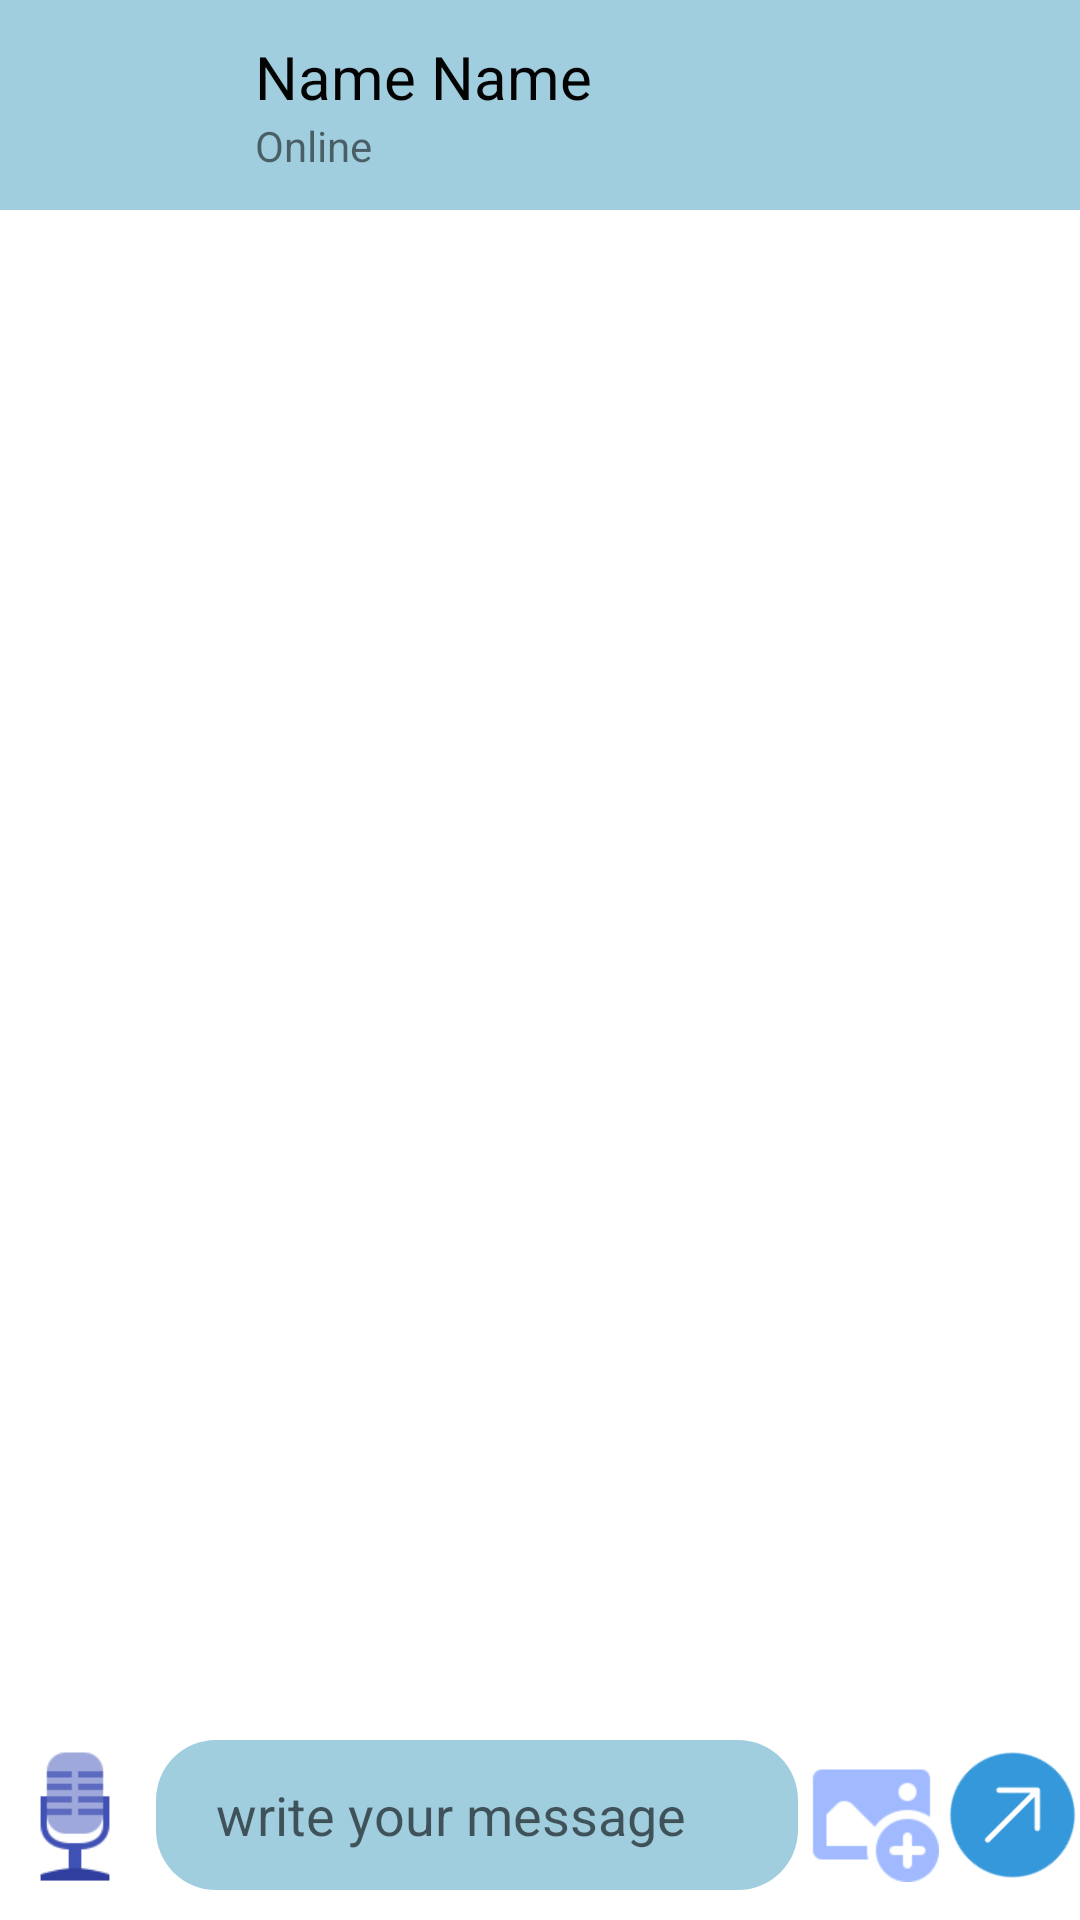

Named icons in this screenshot (1080*1920) and their centers, (x,y):
add: (876,1825)
mic: (75,1816)
